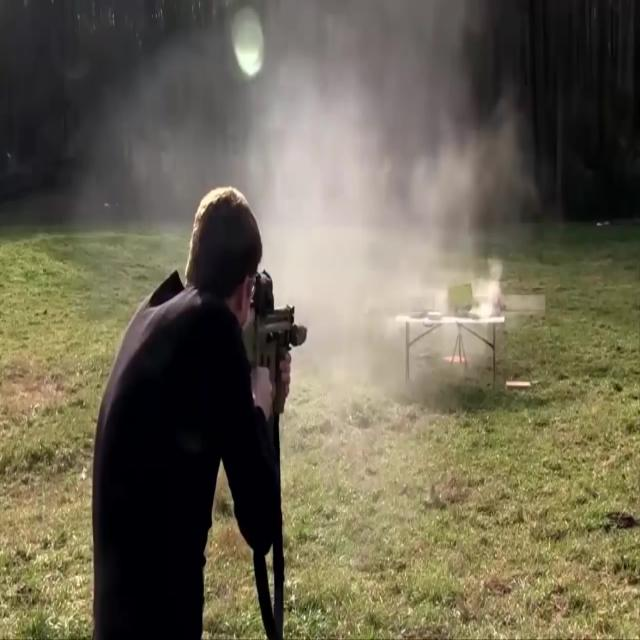Weapon: (213, 257, 352, 458)
